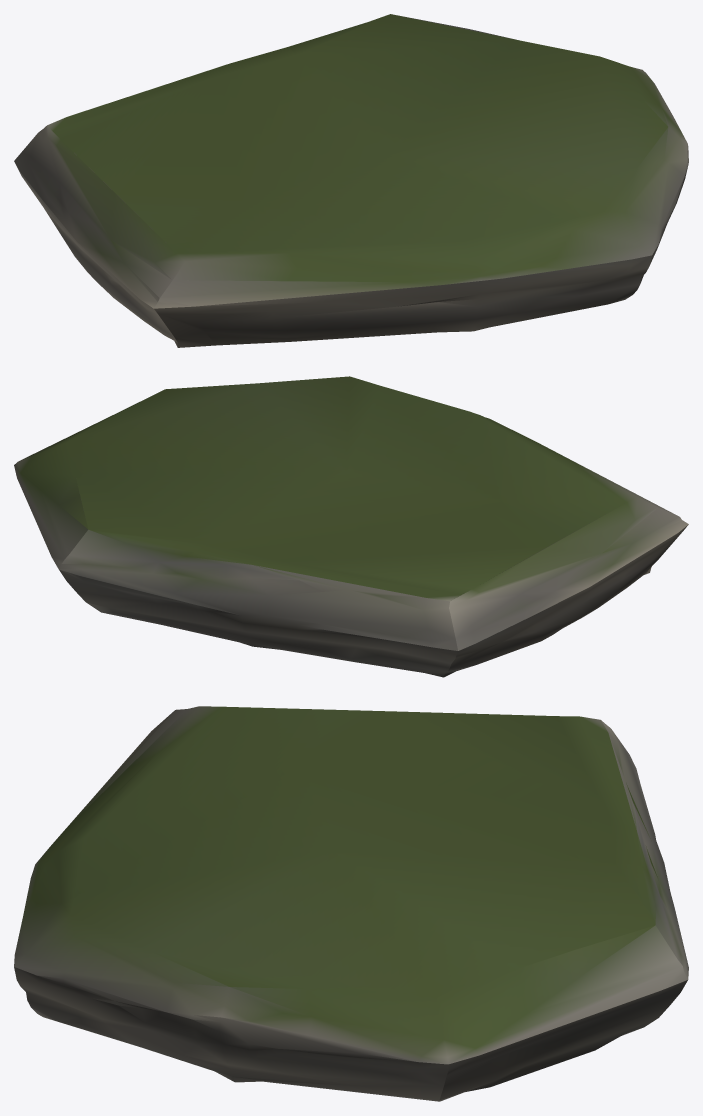
The model's file is rock.slab.moss.glb.
3 views of the same model, one above another, from view 1: azimuth 30°, elevation 25°; view 2: azimuth 150°, elevation 25°; view 3: azimuth 270°, elevation 25° (orthographic). The views are drawn at different scales.
Parts seen in each view (by area): view 1: rock_slab_moss; view 2: rock_slab_moss; view 3: rock_slab_moss.
Part boxes in pixels (x1,y1,x2,y2): rock_slab_moss: (14,14,688,347); rock_slab_moss: (14,376,688,677); rock_slab_moss: (14,706,688,1101).
Size of what is drawn, in the model's own units: 3.66 by 0.5266 by 2.97.
